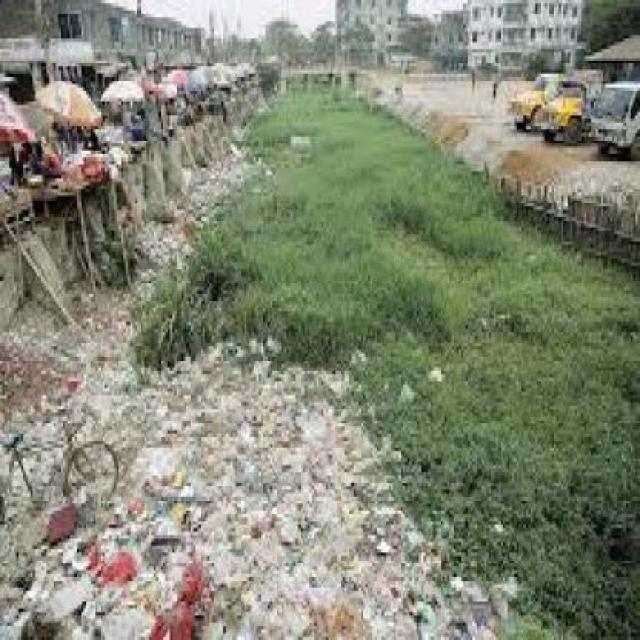garbage: (3, 346, 380, 633), (0, 175, 114, 346), (81, 143, 184, 254), (385, 500, 443, 636), (554, 154, 638, 203), (191, 133, 242, 192)
